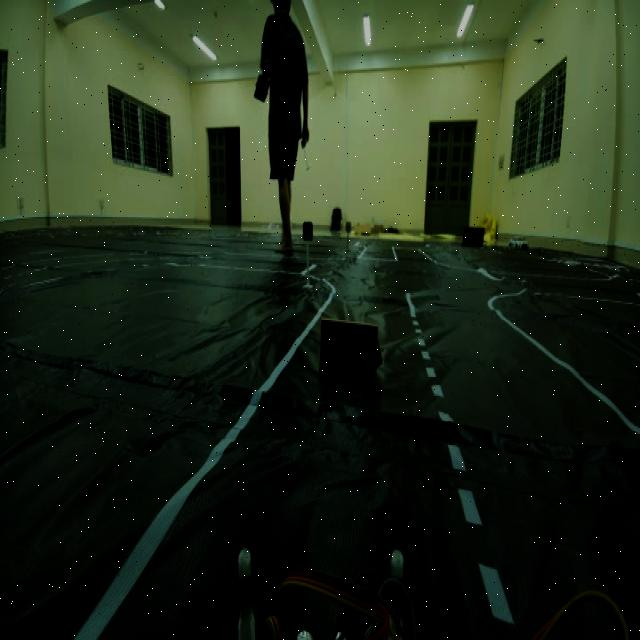roadblock: (311, 309, 389, 402)
